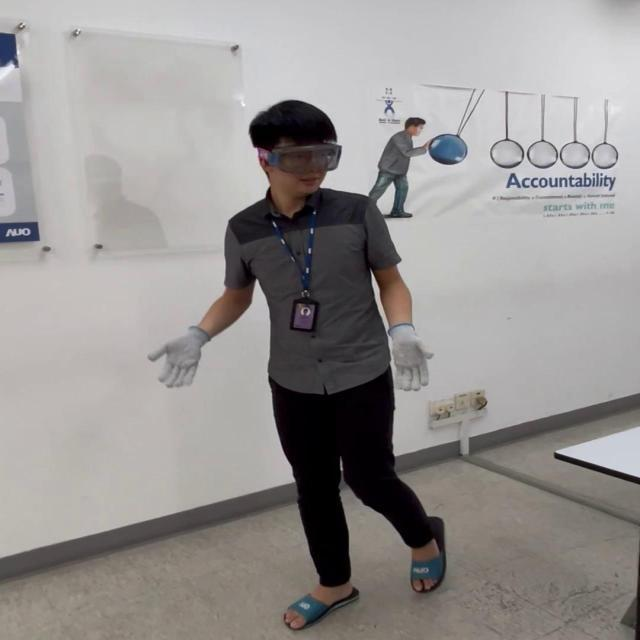gloved_hand: (381, 326, 437, 392), (156, 324, 210, 386)
